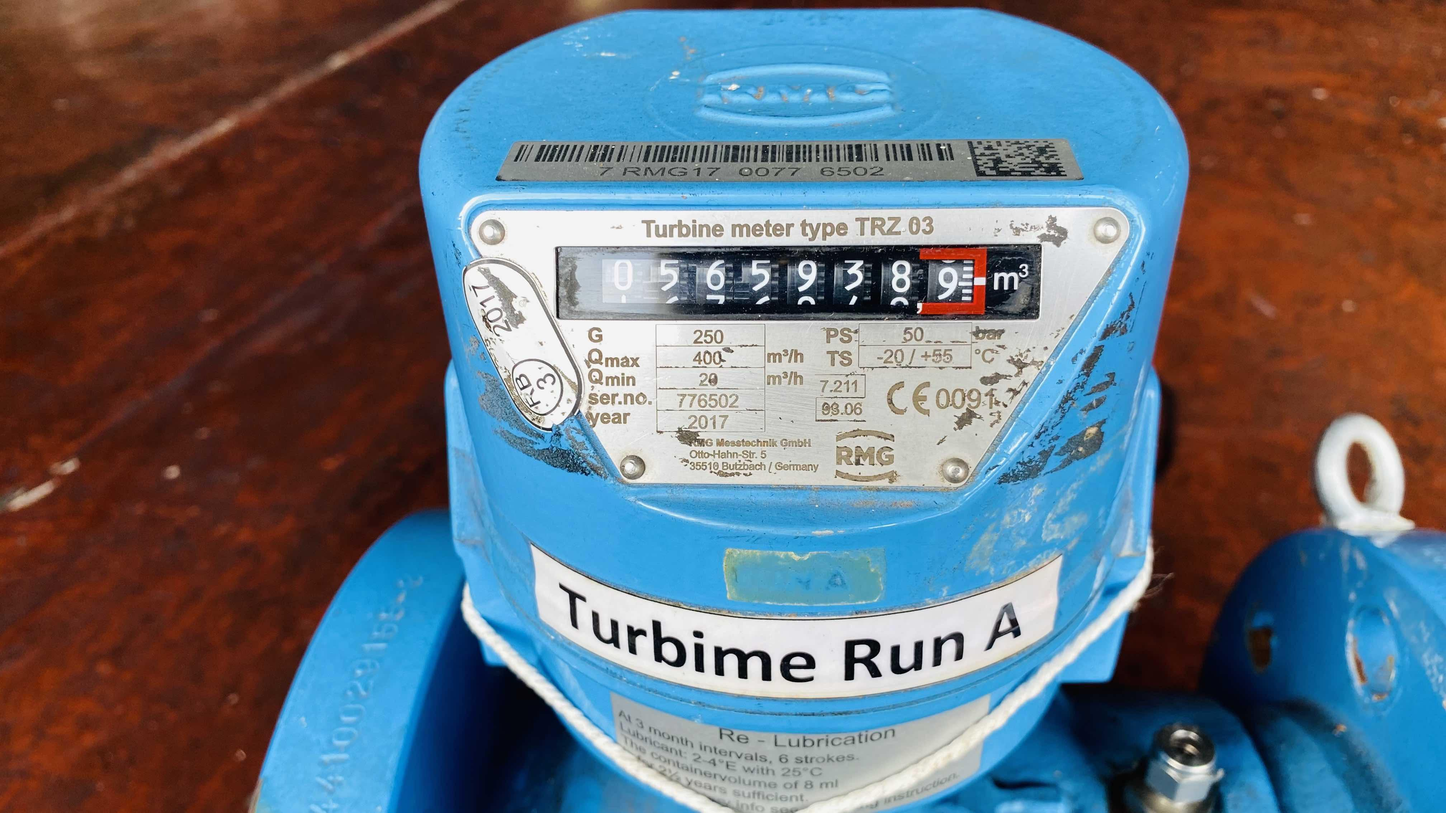analog_dial: (556, 244, 1042, 322)
